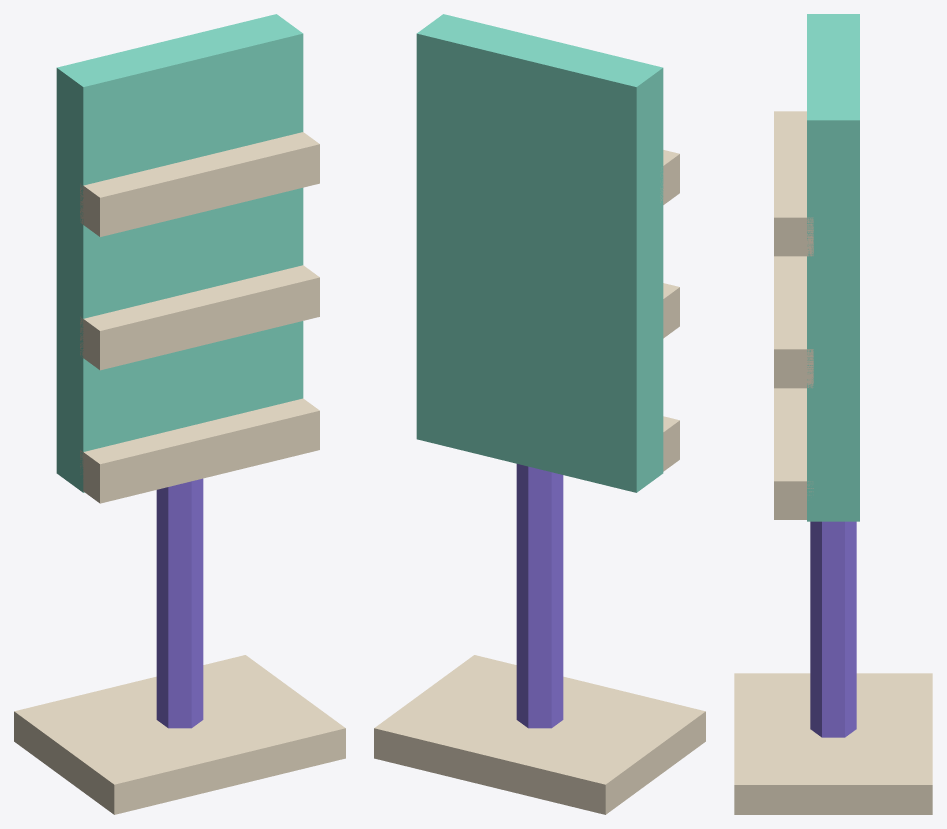
3 views of the same model, side by side, from view 1: azimuth 30°, elevation 25°; view 2: azimuth 150°, elevation 25°; view 3: azimuth 270°, elevation 25° (orthographic).
Visible parts, largest first — view 1: Sloping pocket.002, Foot, Sloping pocket, Sloping pocket.001, Pocket lip.002, Pocket lip.001, Pocket lip, Stand; view 2: Sloping pocket.002, Sloping pocket, Sloping pocket.001, Foot, Stand, Pocket lip.002, Pocket lip, Pocket lip.001; view 3: Foot, Sloping pocket.002, Stand, Sloping pocket, Sloping pocket.001, Pocket lip.002, Pocket lip.001, Pocket lip.
Part boxes in pixels (box(x1,y1,x2,y2)): Sloping pocket.002: box(56, 14, 303, 225); Foot: box(14, 655, 345, 814); Sloping pocket: box(56, 321, 303, 492); Sloping pocket.001: box(56, 188, 303, 357); Pocket lip.002: box(80, 132, 319, 236); Pocket lip.001: box(80, 265, 319, 370); Pocket lip: box(80, 398, 319, 503); Stand: box(156, 478, 203, 728); Sloping pocket.002: box(416, 14, 663, 226); Sloping pocket: box(416, 300, 663, 492); Sloping pocket.001: box(416, 167, 663, 358); Foot: box(374, 655, 705, 814); Stand: box(516, 464, 563, 728); Pocket lip.002: box(660, 150, 679, 204); Pocket lip: box(663, 416, 679, 471); Pocket lip.001: box(663, 283, 679, 338); Foot: box(734, 673, 932, 814); Sloping pocket.002: box(807, 14, 859, 257); Stand: box(810, 521, 856, 737); Sloping pocket: box(807, 383, 859, 521); Sloping pocket.001: box(807, 252, 859, 388); Pocket lip.002: box(774, 111, 813, 256); Pocket lip.001: box(774, 256, 813, 388); Pocket lip: box(774, 388, 813, 519).
Bounding box in the file's own units: 0.4 × 1.15 × 0.3.
1 material, 1 textured.
